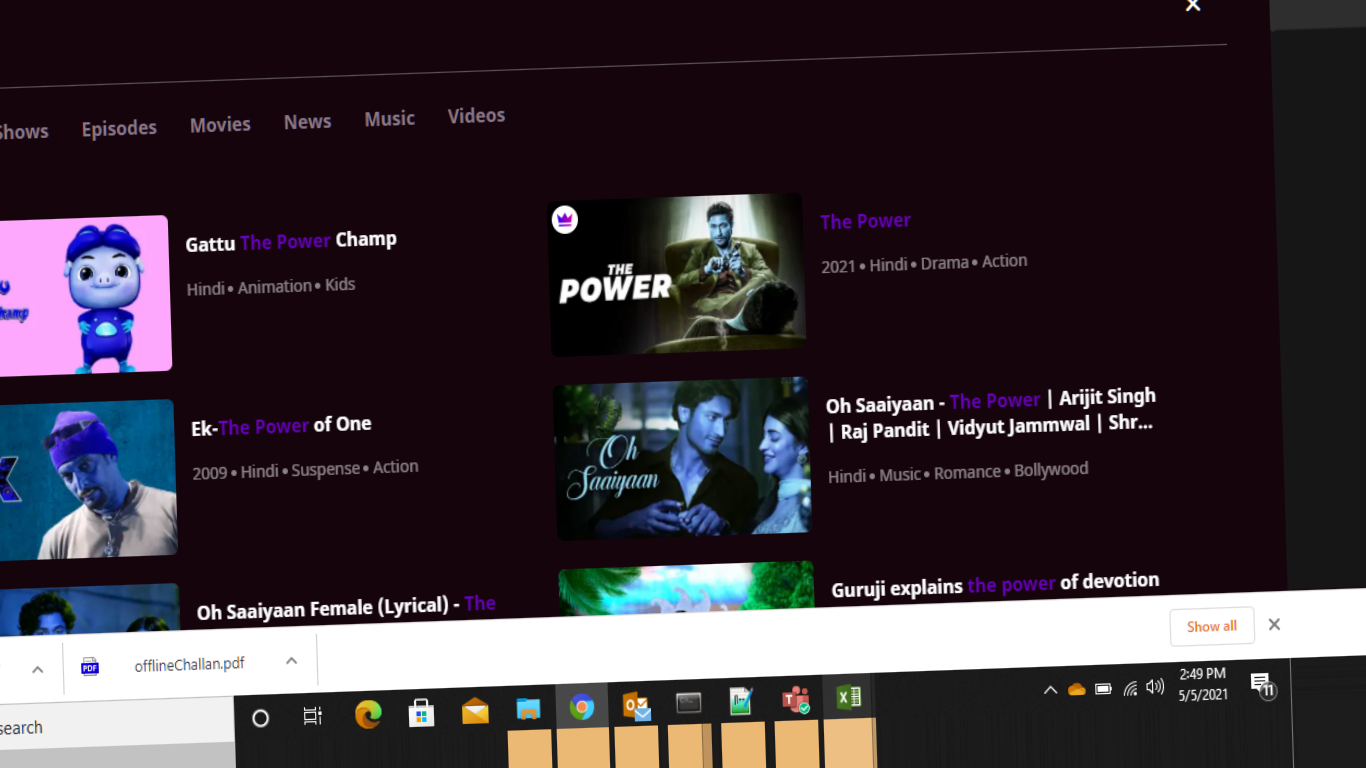searchtextbox: (5, 18, 1225, 92)
